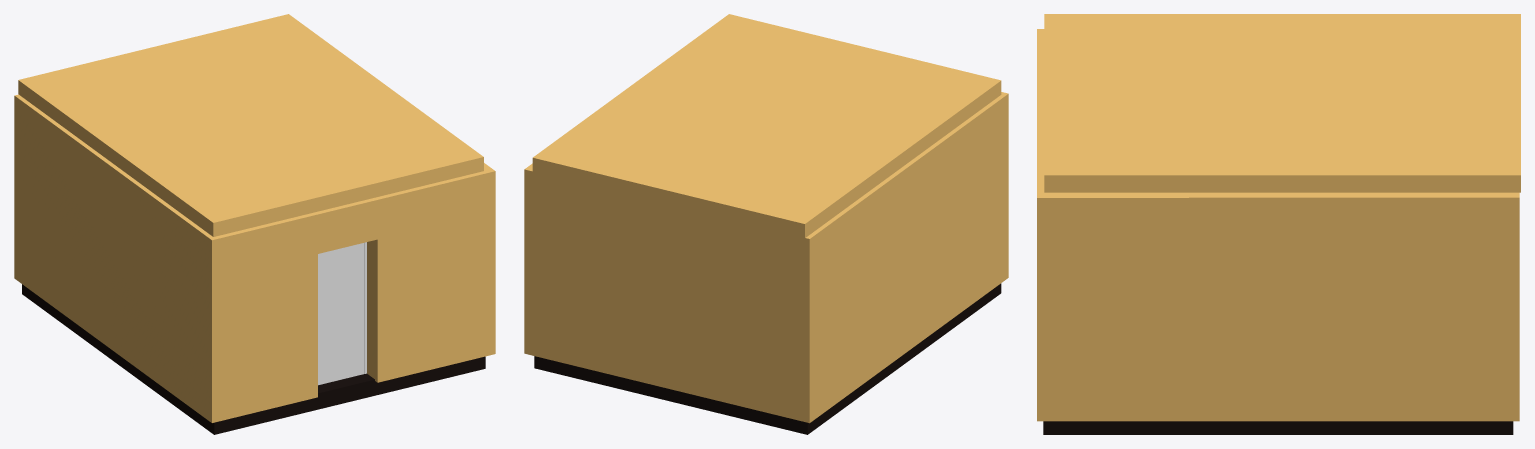
File: FloorPlan29_physics.fbx
3 renders of one model, left to right at view 1: azimuth 30°, elevation 25°; view 2: azimuth 150°, elevation 25°; view 3: azimuth 270°, elevation 25°, orthographic. The views are drawn at different scales.
Parts seen in each view (by area): view 1: Baseboard.004, Ceiling, Floor, Door; view 2: Baseboard.004, Ceiling, Floor; view 3: Baseboard.004, Ceiling, Floor.
Boxes of the visible parts, x1=… form: Baseboard.004: x1=14, y1=94, x2=495, y2=422; Ceiling: x1=18, y1=14, x2=483, y2=236; Floor: x1=22, y1=284, x2=485, y2=434; Door: x1=318, y1=242, x2=364, y2=385; Baseboard.004: x1=524, y1=92, x2=1008, y2=423; Ceiling: x1=532, y1=14, x2=1001, y2=238; Floor: x1=534, y1=283, x2=1001, y2=434; Baseboard.004: x1=1037, y1=29, x2=1519, y2=421; Ceiling: x1=1044, y1=14, x2=1520, y2=192; Floor: x1=1043, y1=421, x2=1513, y2=434.
Bounding box in the file's own units: 428 × 305 × 517.
